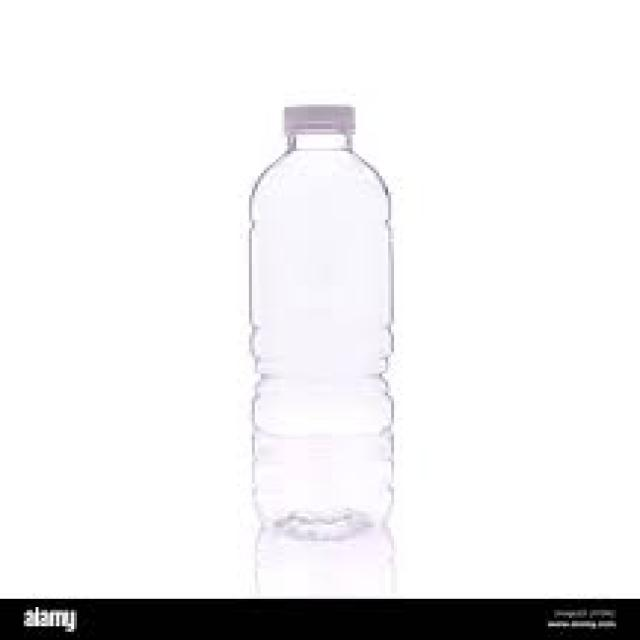plastic cup: (251, 105, 392, 554)
